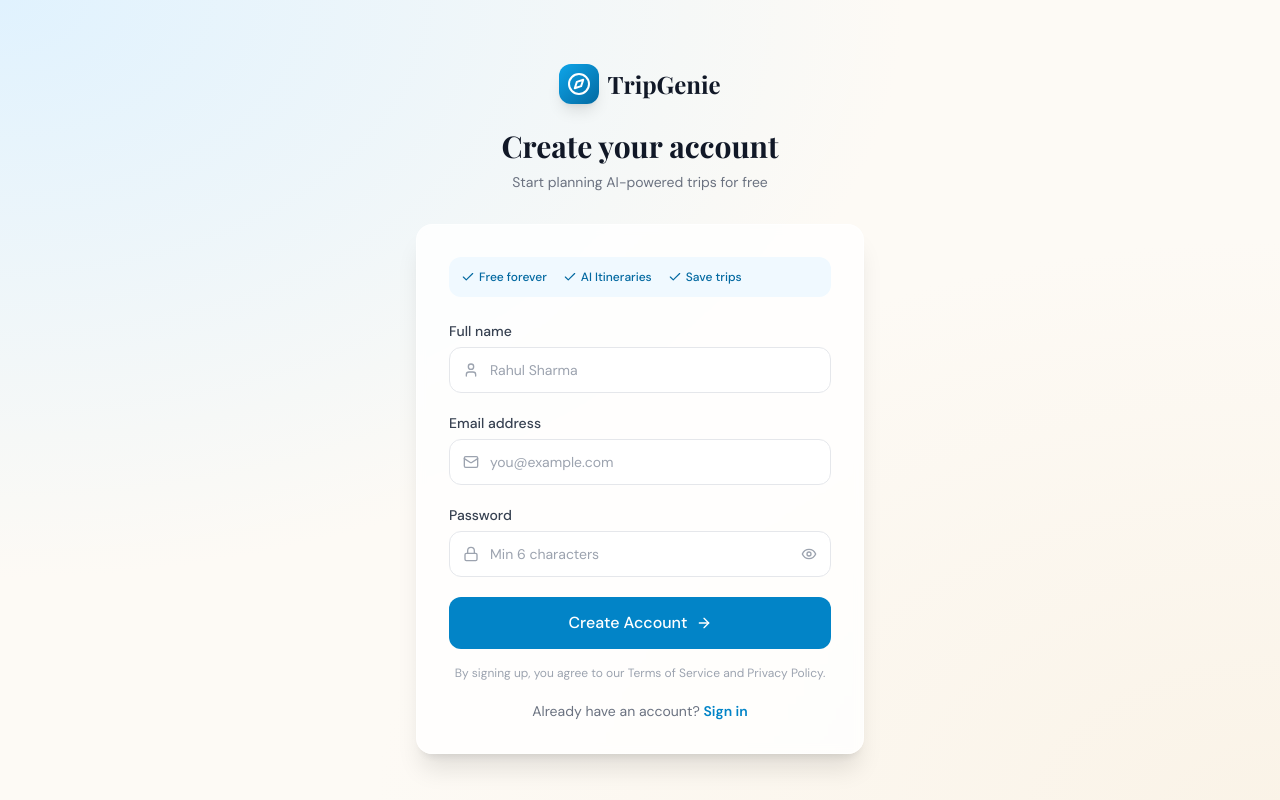
Test case: Authentication › empty signup shows errors
The width and height of the screenshot is (1280, 800).
Click the button "Create Account": (640, 623) [449,597,831,649]
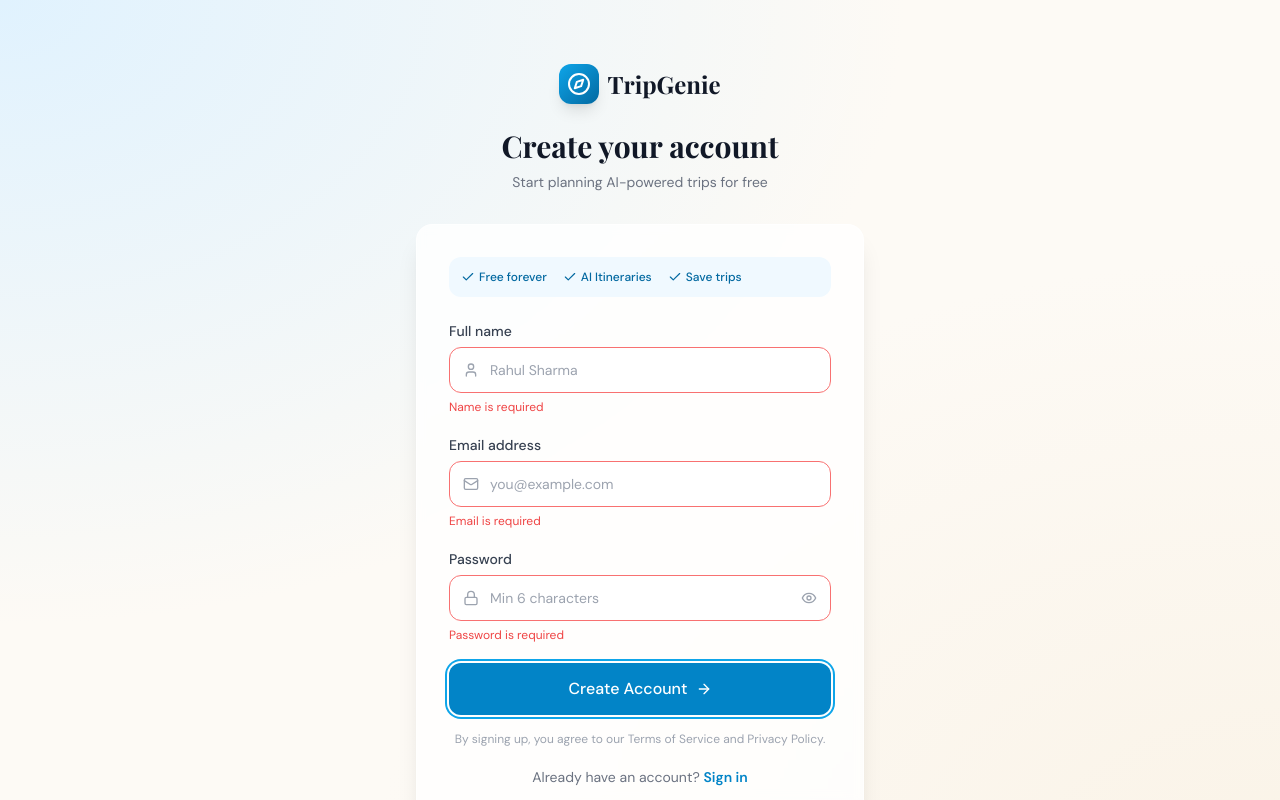
Expected: the text "Name is required" is shown, [449,399,544,415]
